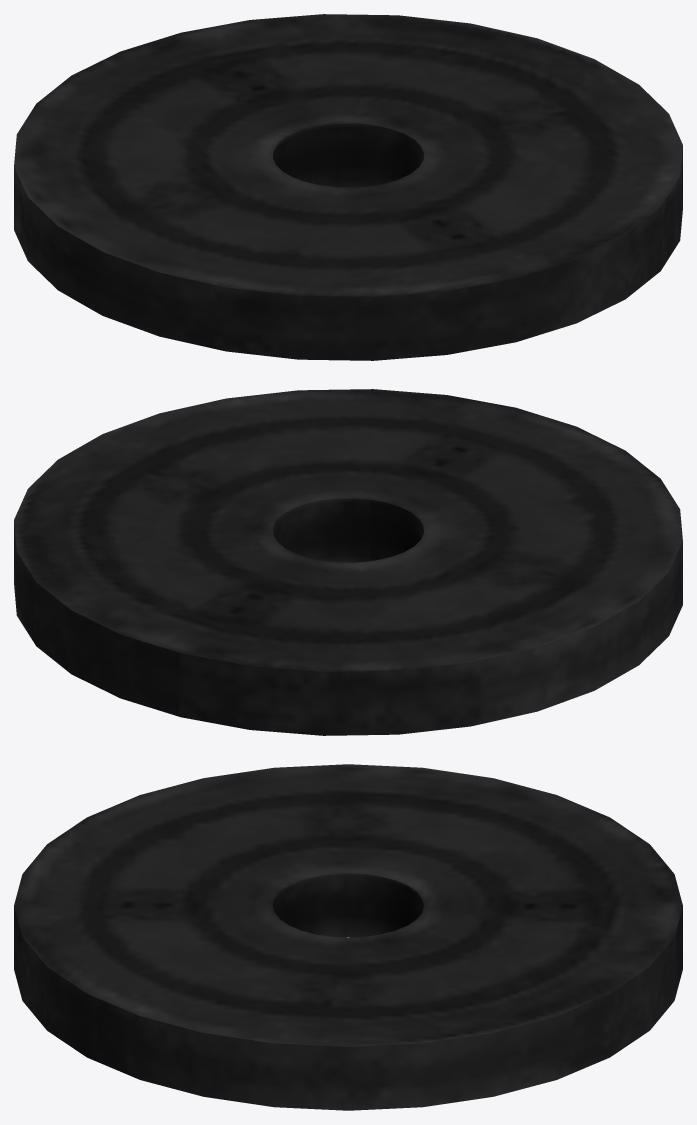
Rendered from MB_Barbell_Drive_02.fbx.
3 renders of one model, top to bottom at view 1: azimuth 30°, elevation 25°; view 2: azimuth 150°, elevation 25°; view 3: azimuth 270°, elevation 25°, orthographic.
Parts seen in each view (by area): view 1: MB_Barbell_Drive_02_LOD0; view 2: MB_Barbell_Drive_02_LOD0; view 3: MB_Barbell_Drive_02_LOD0.
Part boxes in pixels (x1=…): MB_Barbell_Drive_02_LOD0: x1=14, y1=14, x2=682, y2=360; MB_Barbell_Drive_02_LOD0: x1=14, y1=389, x2=682, y2=735; MB_Barbell_Drive_02_LOD0: x1=14, y1=764, x2=682, y2=1110.
Size of what is drawn, in the model's own units: 31.65 by 3.33 by 31.65.
